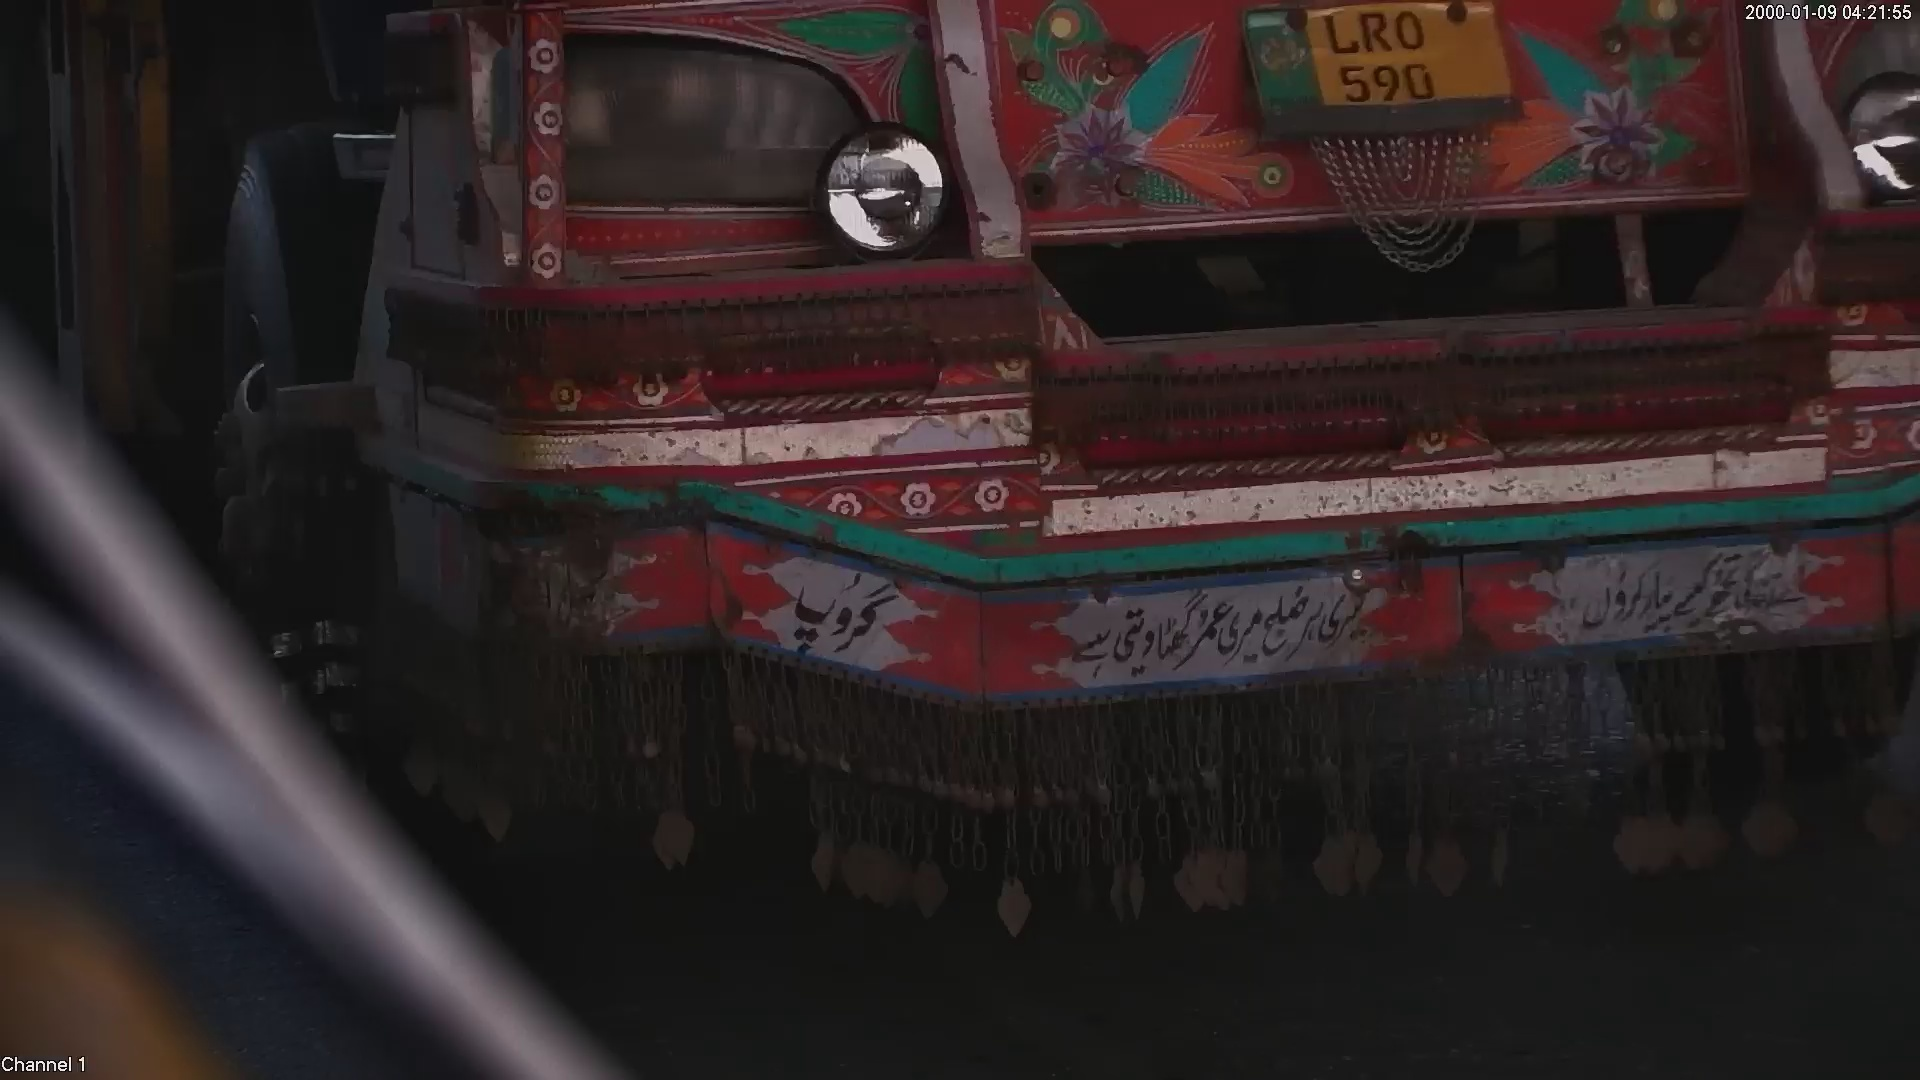Number_Plate: (1247, 3, 1539, 127)
Undefined: (560, 59, 984, 268), (1041, 573, 1389, 673), (708, 531, 915, 670), (1541, 538, 1819, 633), (1315, 140, 1515, 270)
